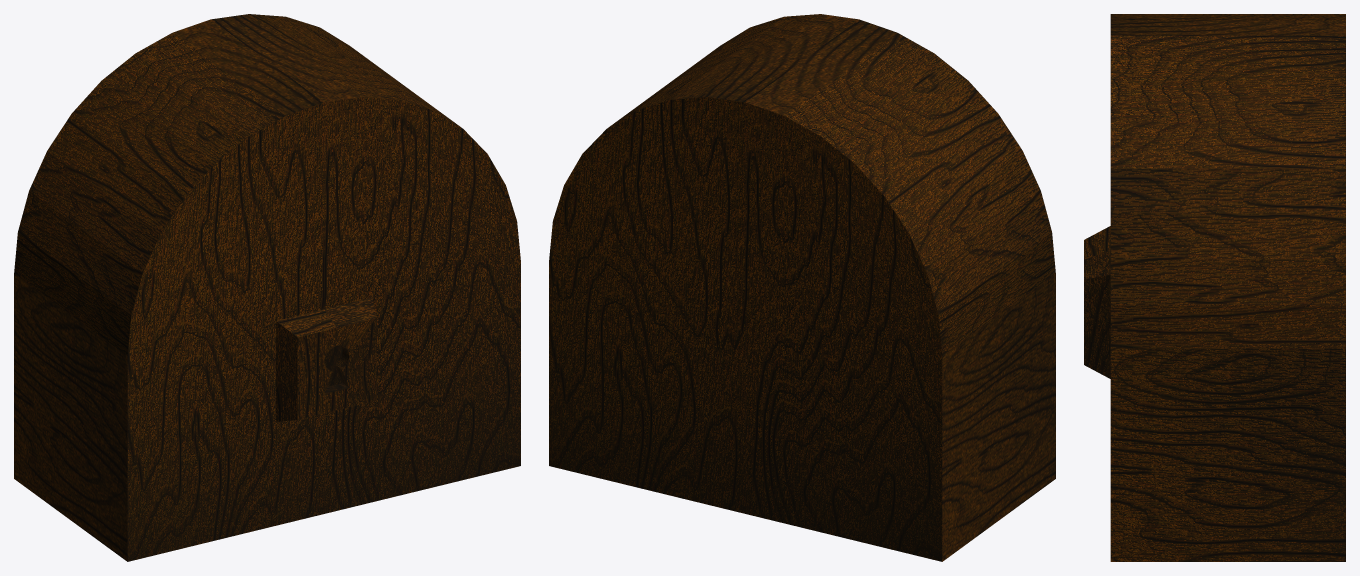
Rendered from lockedDoor.fbx.
3 renders of one model, left to right at view 1: azimuth 30°, elevation 25°; view 2: azimuth 150°, elevation 25°; view 3: azimuth 270°, elevation 25°, orthographic. The views are drawn at different scales.
Parts seen in each view (by area): view 1: leftKey, rightKey; view 2: leftKey, rightKey; view 3: rightKey, leftKey.
Boxes of the visible parts, <box> form: leftKey: <box>14,19,336,561</box>; rightKey: <box>211,14,520,513</box>; leftKey: <box>745,19,1055,561</box>; rightKey: <box>549,14,858,513</box>; rightKey: <box>1084,35,1345,561</box>; leftKey: <box>1084,14,1345,259</box>.
Bounding box in the file's own units: 100 × 100 × 55.63.
